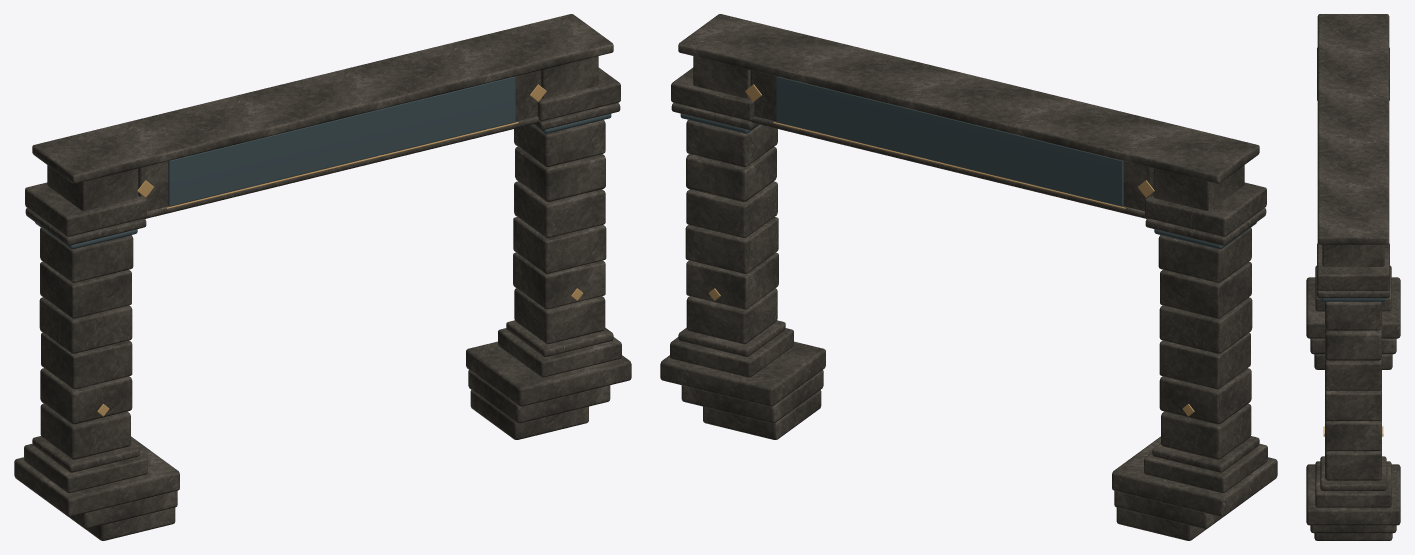
Rendered from gallery-waygate.glb.
3 renders of one model, left to right at view 1: azimuth 30°, elevation 25°; view 2: azimuth 150°, elevation 25°; view 3: azimuth 270°, elevation 25°, orthographic. The views are drawn at different scales.
Visible parts, largest first — view 1: gallery-waygate — Weathered warm limestone, gallery-waygate — Recessed slate, gallery-waygate — Worn champagne brass; view 2: gallery-waygate — Weathered warm limestone, gallery-waygate — Recessed slate, gallery-waygate — Worn champagne brass; view 3: gallery-waygate — Weathered warm limestone, gallery-waygate — Recessed slate.
Part boxes in pixels (<box>): gallery-waygate — Weathered warm limestone: <box>14,14,631,540</box>; gallery-waygate — Recessed slate: <box>35,76,611,249</box>; gallery-waygate — Worn champagne brass: <box>97,84,583,416</box>; gallery-waygate — Weathered warm limestone: <box>660,14,1277,540</box>; gallery-waygate — Recessed slate: <box>680,76,1256,249</box>; gallery-waygate — Worn champagne brass: <box>708,84,1194,416</box>; gallery-waygate — Weathered warm limestone: <box>1306,14,1400,540</box>; gallery-waygate — Recessed slate: <box>1321,298,1385,301</box>.
Bounding box in the file's own units: 8.34 × 5.26 × 1.42.
Materials: 3 (1 with a texture image).
